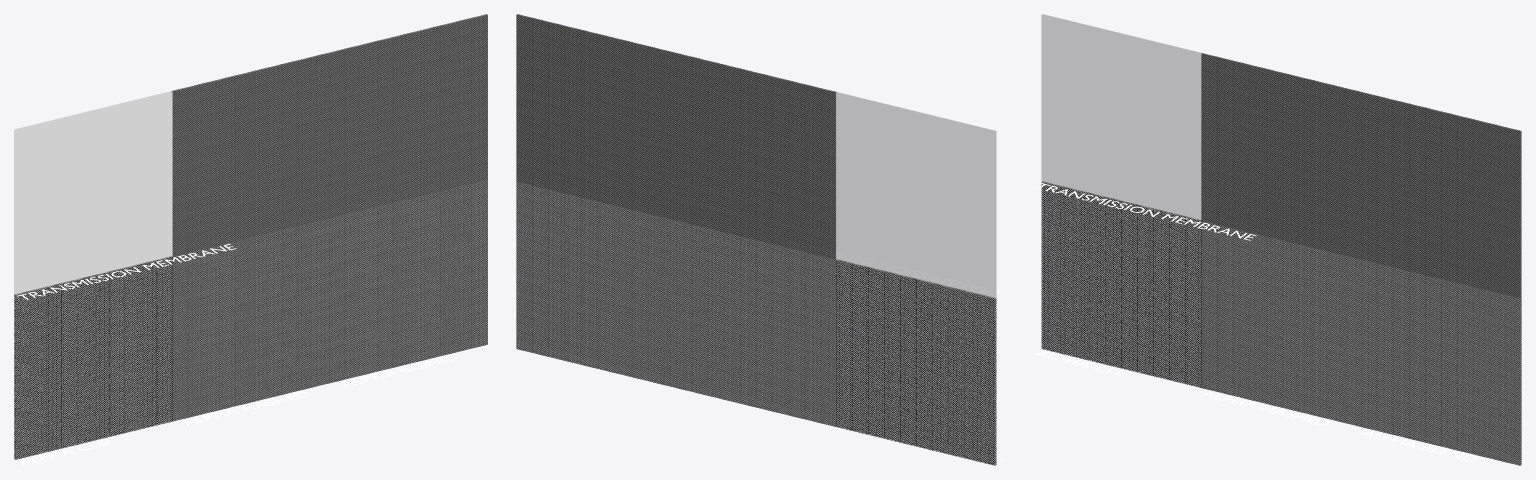
The model's file is eslGrilleTest.glb.
The picture shows the model from 3 angles, left to right: view 1: azimuth 30°, elevation 25°; view 2: azimuth 150°, elevation 25°; view 3: azimuth 330°, elevation 25°; orthographic projection.
Visible parts, largest first — view 1: Plane.004, Plane.005, Plane.006, Plane.001, Plane.002, Plane.003, Text, Text.001; view 2: Plane.004, Plane.002, Plane.006, Plane.005, Plane.001, Plane.003, Text, Text.001; view 3: Plane.006, Plane.004, Plane.003, Plane.005, Plane.002, Plane.001, Text, Text.001.
Part boxes in pixels (<box>): Plane.004: <box>14,91,172,294</box>; Plane.005: <box>172,52,330,256</box>; Plane.006: <box>329,14,487,217</box>; Plane.001: <box>172,218,330,421</box>; Plane.002: <box>14,256,172,459</box>; Plane.003: <box>330,180,487,382</box>; Text: <box>21,356,453,465</box>; Text.001: <box>17,244,236,299</box>; Plane.004: <box>836,92,996,298</box>; Plane.002: <box>836,259,996,465</box>; Plane.006: <box>516,14,676,220</box>; Plane.005: <box>676,53,836,259</box>; Plane.001: <box>676,221,836,426</box>; Plane.003: <box>516,182,676,387</box>; Text: <box>561,353,1003,462</box>; Text.001: <box>785,240,999,296</box>; Plane.006: <box>1361,92,1521,298</box>; Plane.004: <box>1041,14,1201,220</box>; Plane.003: <box>1361,260,1521,465</box>; Plane.005: <box>1201,53,1361,259</box>; Plane.002: <box>1041,181,1201,387</box>; Plane.001: <box>1201,221,1360,426</box>; Text: <box>1034,351,1476,460</box>; Text.001: <box>1038,183,1256,240</box>.
Size of the model in its own units: 3 by 2 by 0.099.
Materials: 6 (3 with a texture image).
